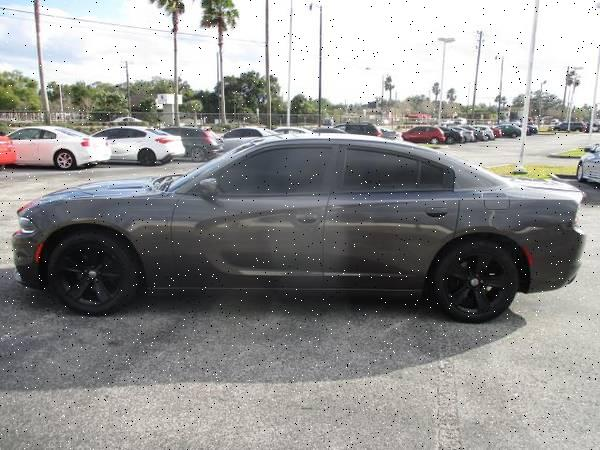Front_Bumper: (13, 232, 45, 285)
Front_Fender: (20, 192, 181, 293)
Front_Left_Door: (168, 192, 327, 291)
Front_Left_Window: (178, 145, 336, 197)
Hood: (21, 176, 165, 209)
Left_Headlight: (17, 215, 36, 235)
Rear_Bumper: (528, 230, 584, 290)
Rear_Fender: (455, 191, 579, 245)
Rear_Left_Door: (321, 191, 459, 291)
Rear_Left_Window: (328, 147, 455, 196)
Roof: (173, 137, 508, 197)
Wheel: (51, 235, 141, 319), (434, 238, 521, 320)
